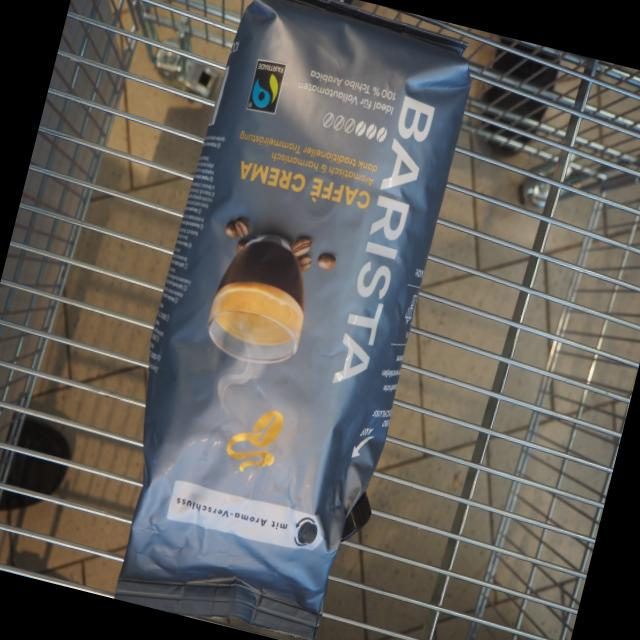Barista CC: (82, 0, 493, 640)
